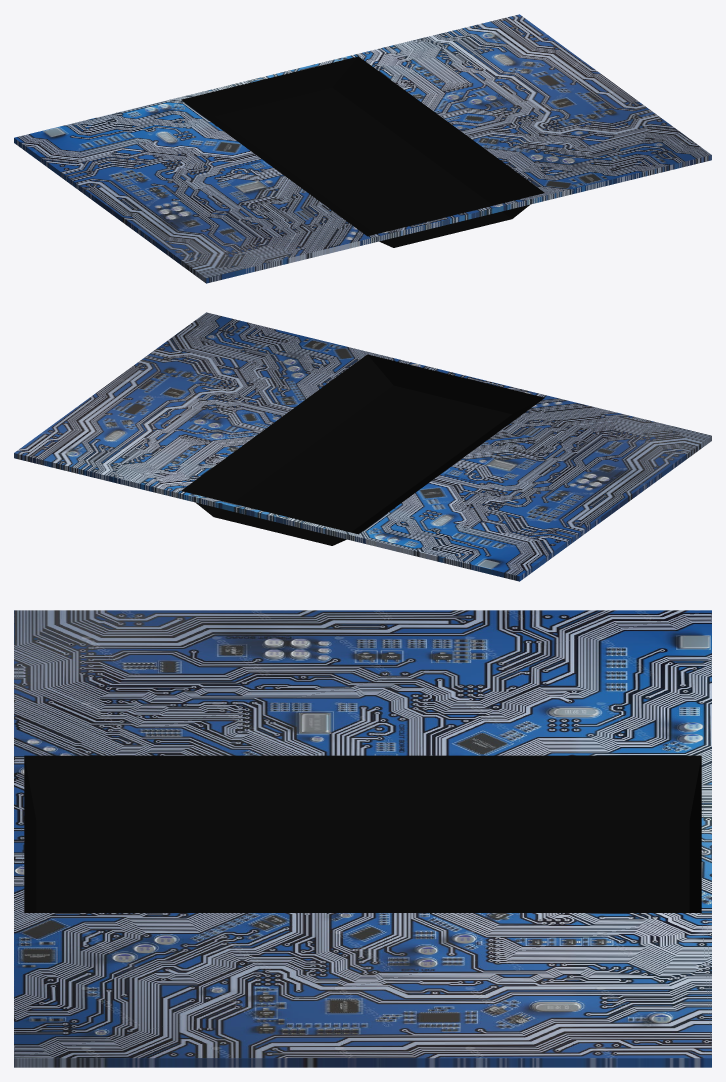
The model's file is WaterFloorBeta2.fbx.
3 renders of one model, top to bottom at view 1: azimuth 30°, elevation 25°; view 2: azimuth 150°, elevation 25°; view 3: azimuth 270°, elevation 25°, orthographic. The views are drawn at different scales.
Parts seen in each view (by area): view 1: polySurface1; view 2: polySurface1; view 3: polySurface1.
Part boxes in pixels (left/top/right/bottom): polySurface1: left=14, top=14, right=711, bottom=283; polySurface1: left=14, top=312, right=711, bottom=581; polySurface1: left=14, top=610, right=711, bottom=1067.
Size of the model in its own units: 19.16 by 0.7728 by 12.62.
